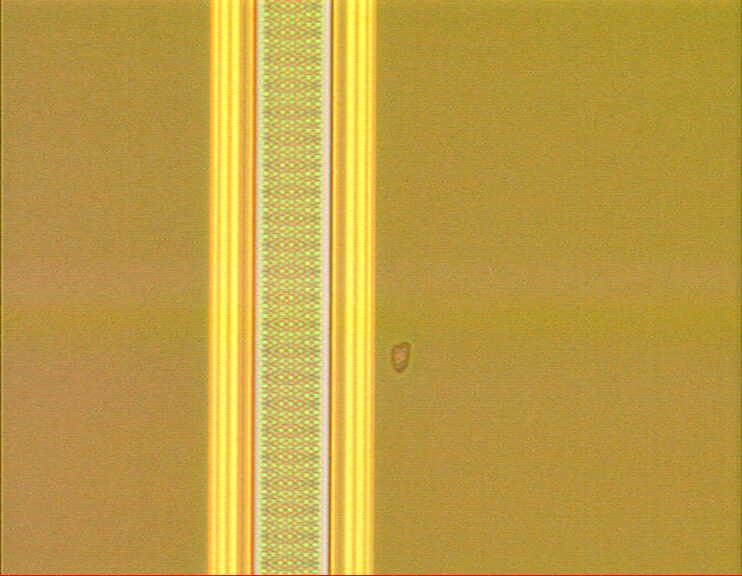PIQ PARTICLE: (386, 336, 418, 379)
